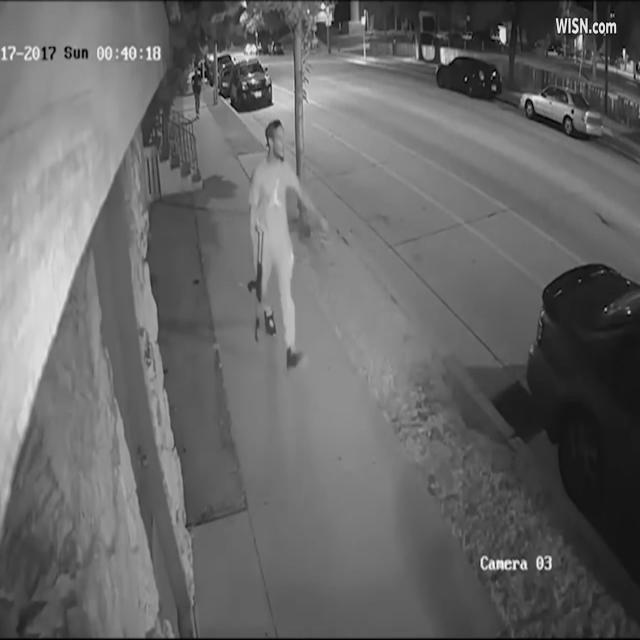Weapon: (242, 212, 285, 368)
